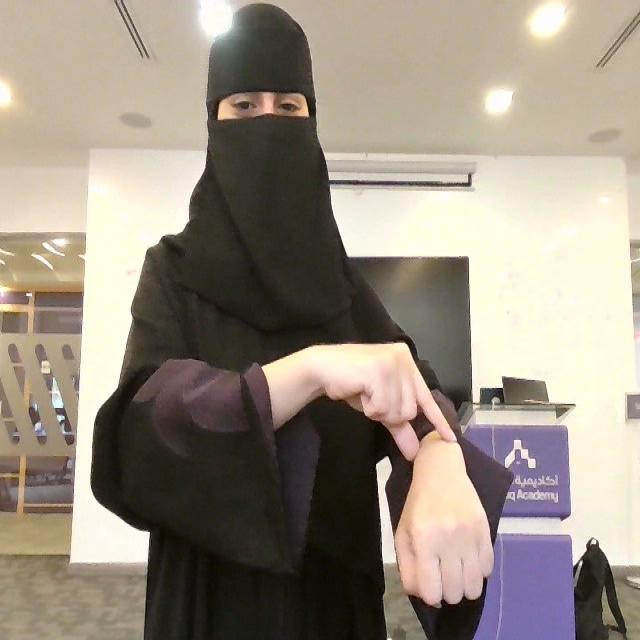appointment: (310, 335, 497, 610)
